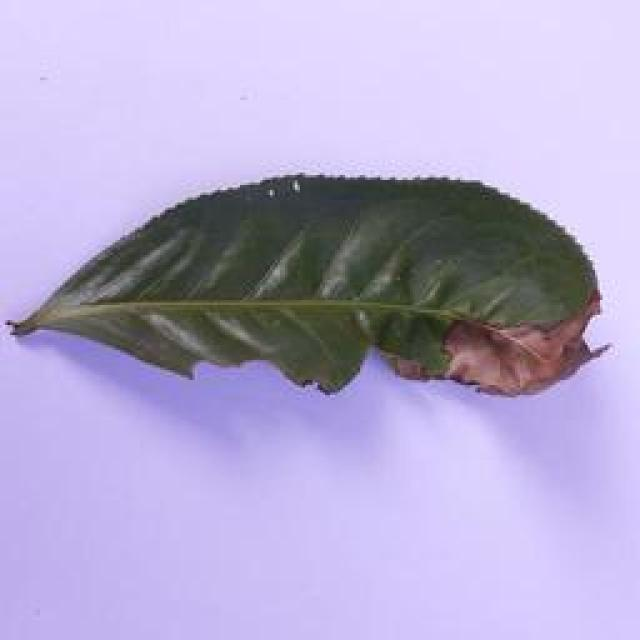Gray Blight: (0, 160, 620, 410)
